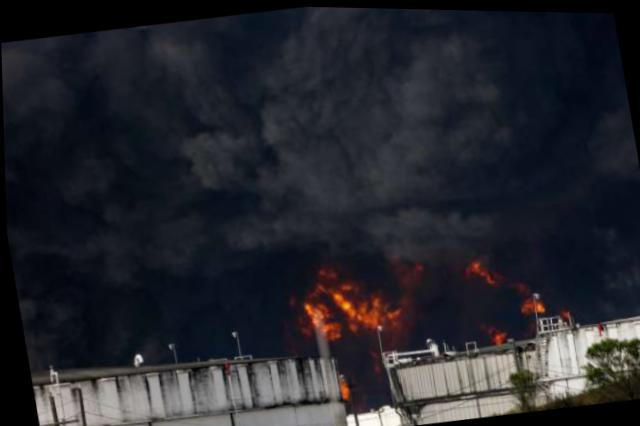fire: (348, 298, 409, 341), (308, 300, 342, 344), (465, 255, 503, 291), (326, 275, 349, 311), (512, 290, 542, 314)
smoke: (0, 0, 639, 316), (24, 266, 298, 371), (535, 231, 639, 311), (428, 290, 501, 329)
